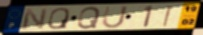1: (142, 5, 154, 28)
I: (161, 4, 175, 27)
N: (21, 8, 49, 31)
Q: (76, 6, 102, 30), (47, 7, 71, 30)
U: (101, 5, 129, 29)
